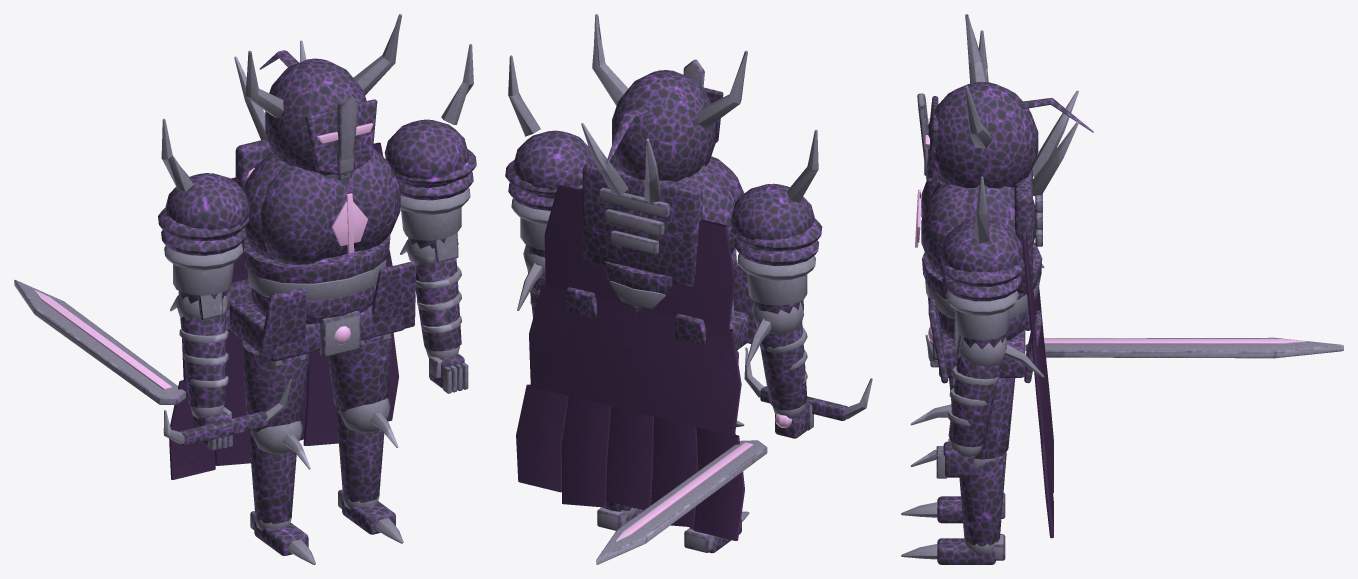
The model's file is Knight.glb.
3 views of the same model, side by side, from view 1: azimuth 30°, elevation 25°; view 2: azimuth 150°, elevation 25°; view 3: azimuth 270°, elevation 25° (orthographic). The views are drawn at different scales.
Parts seen in each view (by area): view 1: Knight_spine, Knight_head, Knight_upperArmR, Knight_hips, Knight_upperArmL, Knight_sword, Knight_cape3, Knight_upperLegR, Knight_upperLegL, Knight_lowerArmR, Knight_lowerArmL, Knight_lowerLegR (+6 smaller); view 2: Knight_cape2, Knight_cape3, Knight_spine, Knight_head, Knight_upperArmR, Knight_cape1, Knight_upperArmL, Knight_sword, Knight_lowerArmR, Knight_hips, Knight_handR, Knight_footR (+1 smaller); view 3: Knight_head, Knight_spine, Knight_upperArmL, Knight_sword, Knight_lowerArmL, Knight_lowerLegL, Knight_hips, Knight_upperLegL, Knight_footL, Knight_cape3, Knight_handL, Knight_footR (+2 smaller).
Boxes of the visible parts, box(x1,y1,x2,y2) form: Knight_spine: box(234, 40, 400, 323); Knight_head: box(245, 14, 401, 177); Knight_upperArmR: box(158, 118, 249, 321); Knight_hips: box(226, 261, 416, 363); Knight_upperArmL: box(384, 44, 476, 265); Knight_sword: box(14, 279, 291, 446); Knight_cape3: box(169, 332, 398, 479); Knight_upperLegR: box(241, 292, 310, 469); Knight_upperLegL: box(328, 266, 398, 447); Knight_lowerArmR: box(179, 292, 228, 407); Knight_lowerArmL: box(412, 233, 462, 351); Knight_lowerLegR: box(248, 425, 296, 531); Knight_cape2: box(529, 284, 741, 435); Knight_cape3: box(516, 384, 744, 540); Knight_spine: box(581, 59, 744, 312); Knight_head: box(592, 14, 747, 181); Knight_upperArmR: box(730, 129, 822, 366); Knight_cape1: box(544, 185, 735, 330); Knight_upperArmL: box(505, 55, 594, 310); Knight_sword: box(596, 347, 872, 564); Knight_lowerArmR: box(757, 300, 807, 410); Knight_hips: box(566, 263, 756, 350); Knight_handR: box(773, 401, 813, 438); Knight_footR: box(684, 511, 749, 553); Knight_head: box(924, 14, 1093, 188); Knight_spine: box(915, 90, 1078, 340); Knight_upperArmL: box(939, 176, 1044, 377); Knight_sword: box(925, 297, 1343, 367); Knight_lowerArmL: box(947, 334, 1002, 447); Knight_lowerLegL: box(959, 452, 1006, 554); Knight_hips: box(928, 269, 1041, 383); Knight_upperLegL: box(910, 318, 1015, 472); Knight_footL: box(901, 534, 1005, 564); Knight_cape3: box(1040, 343, 1053, 538); Knight_handL: box(936, 438, 982, 478); Knight_footR: box(901, 493, 1005, 523).
Bounding box in the file's own units: 2.46 × 3.5 × 2.87.
1 material, 1 textured.
